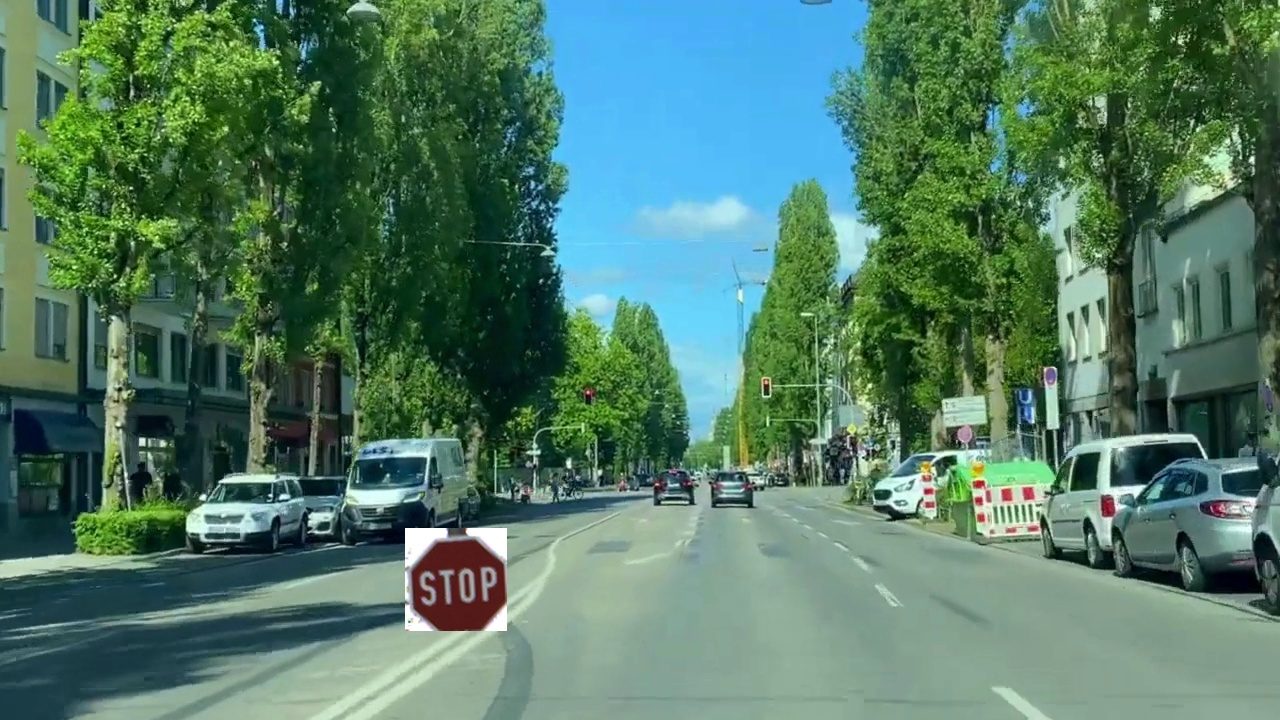Stop: (405, 528, 507, 631)
